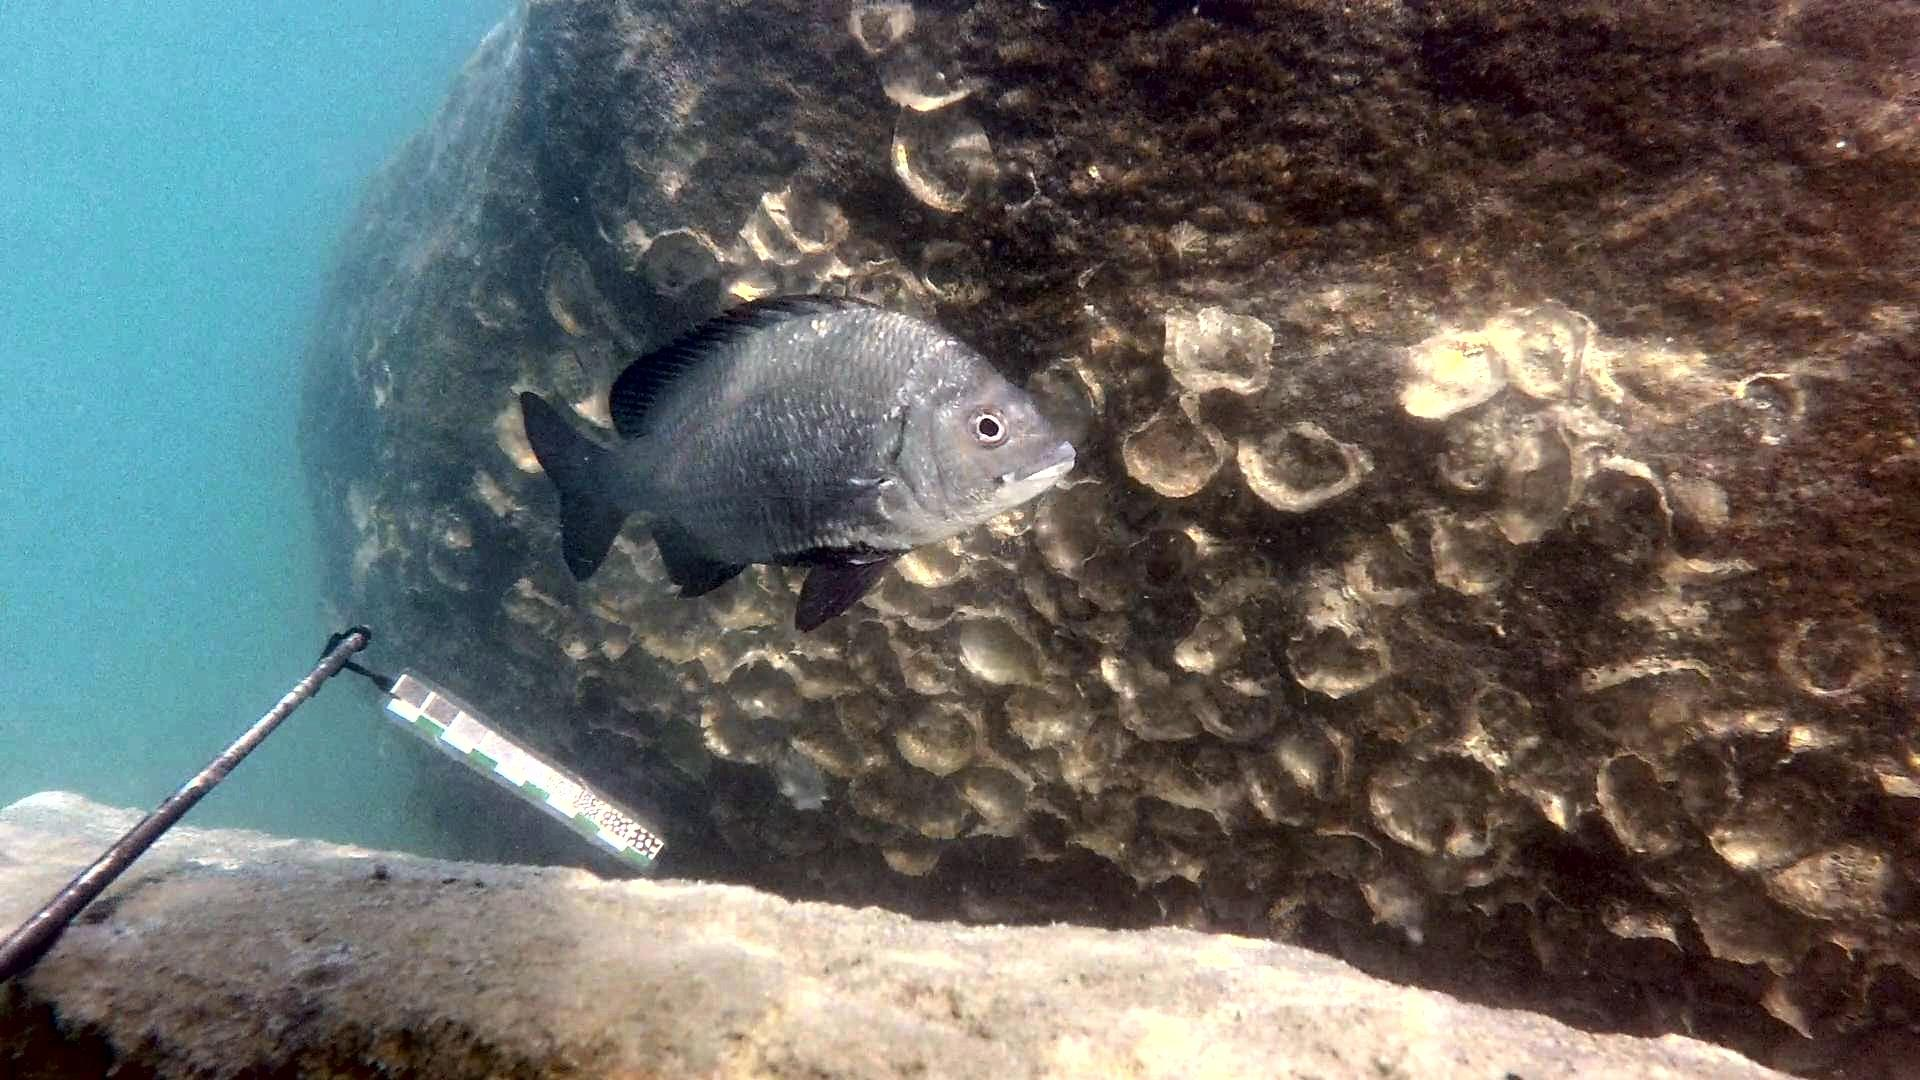acanthopagrus palmaris: (513, 285, 1083, 637)
